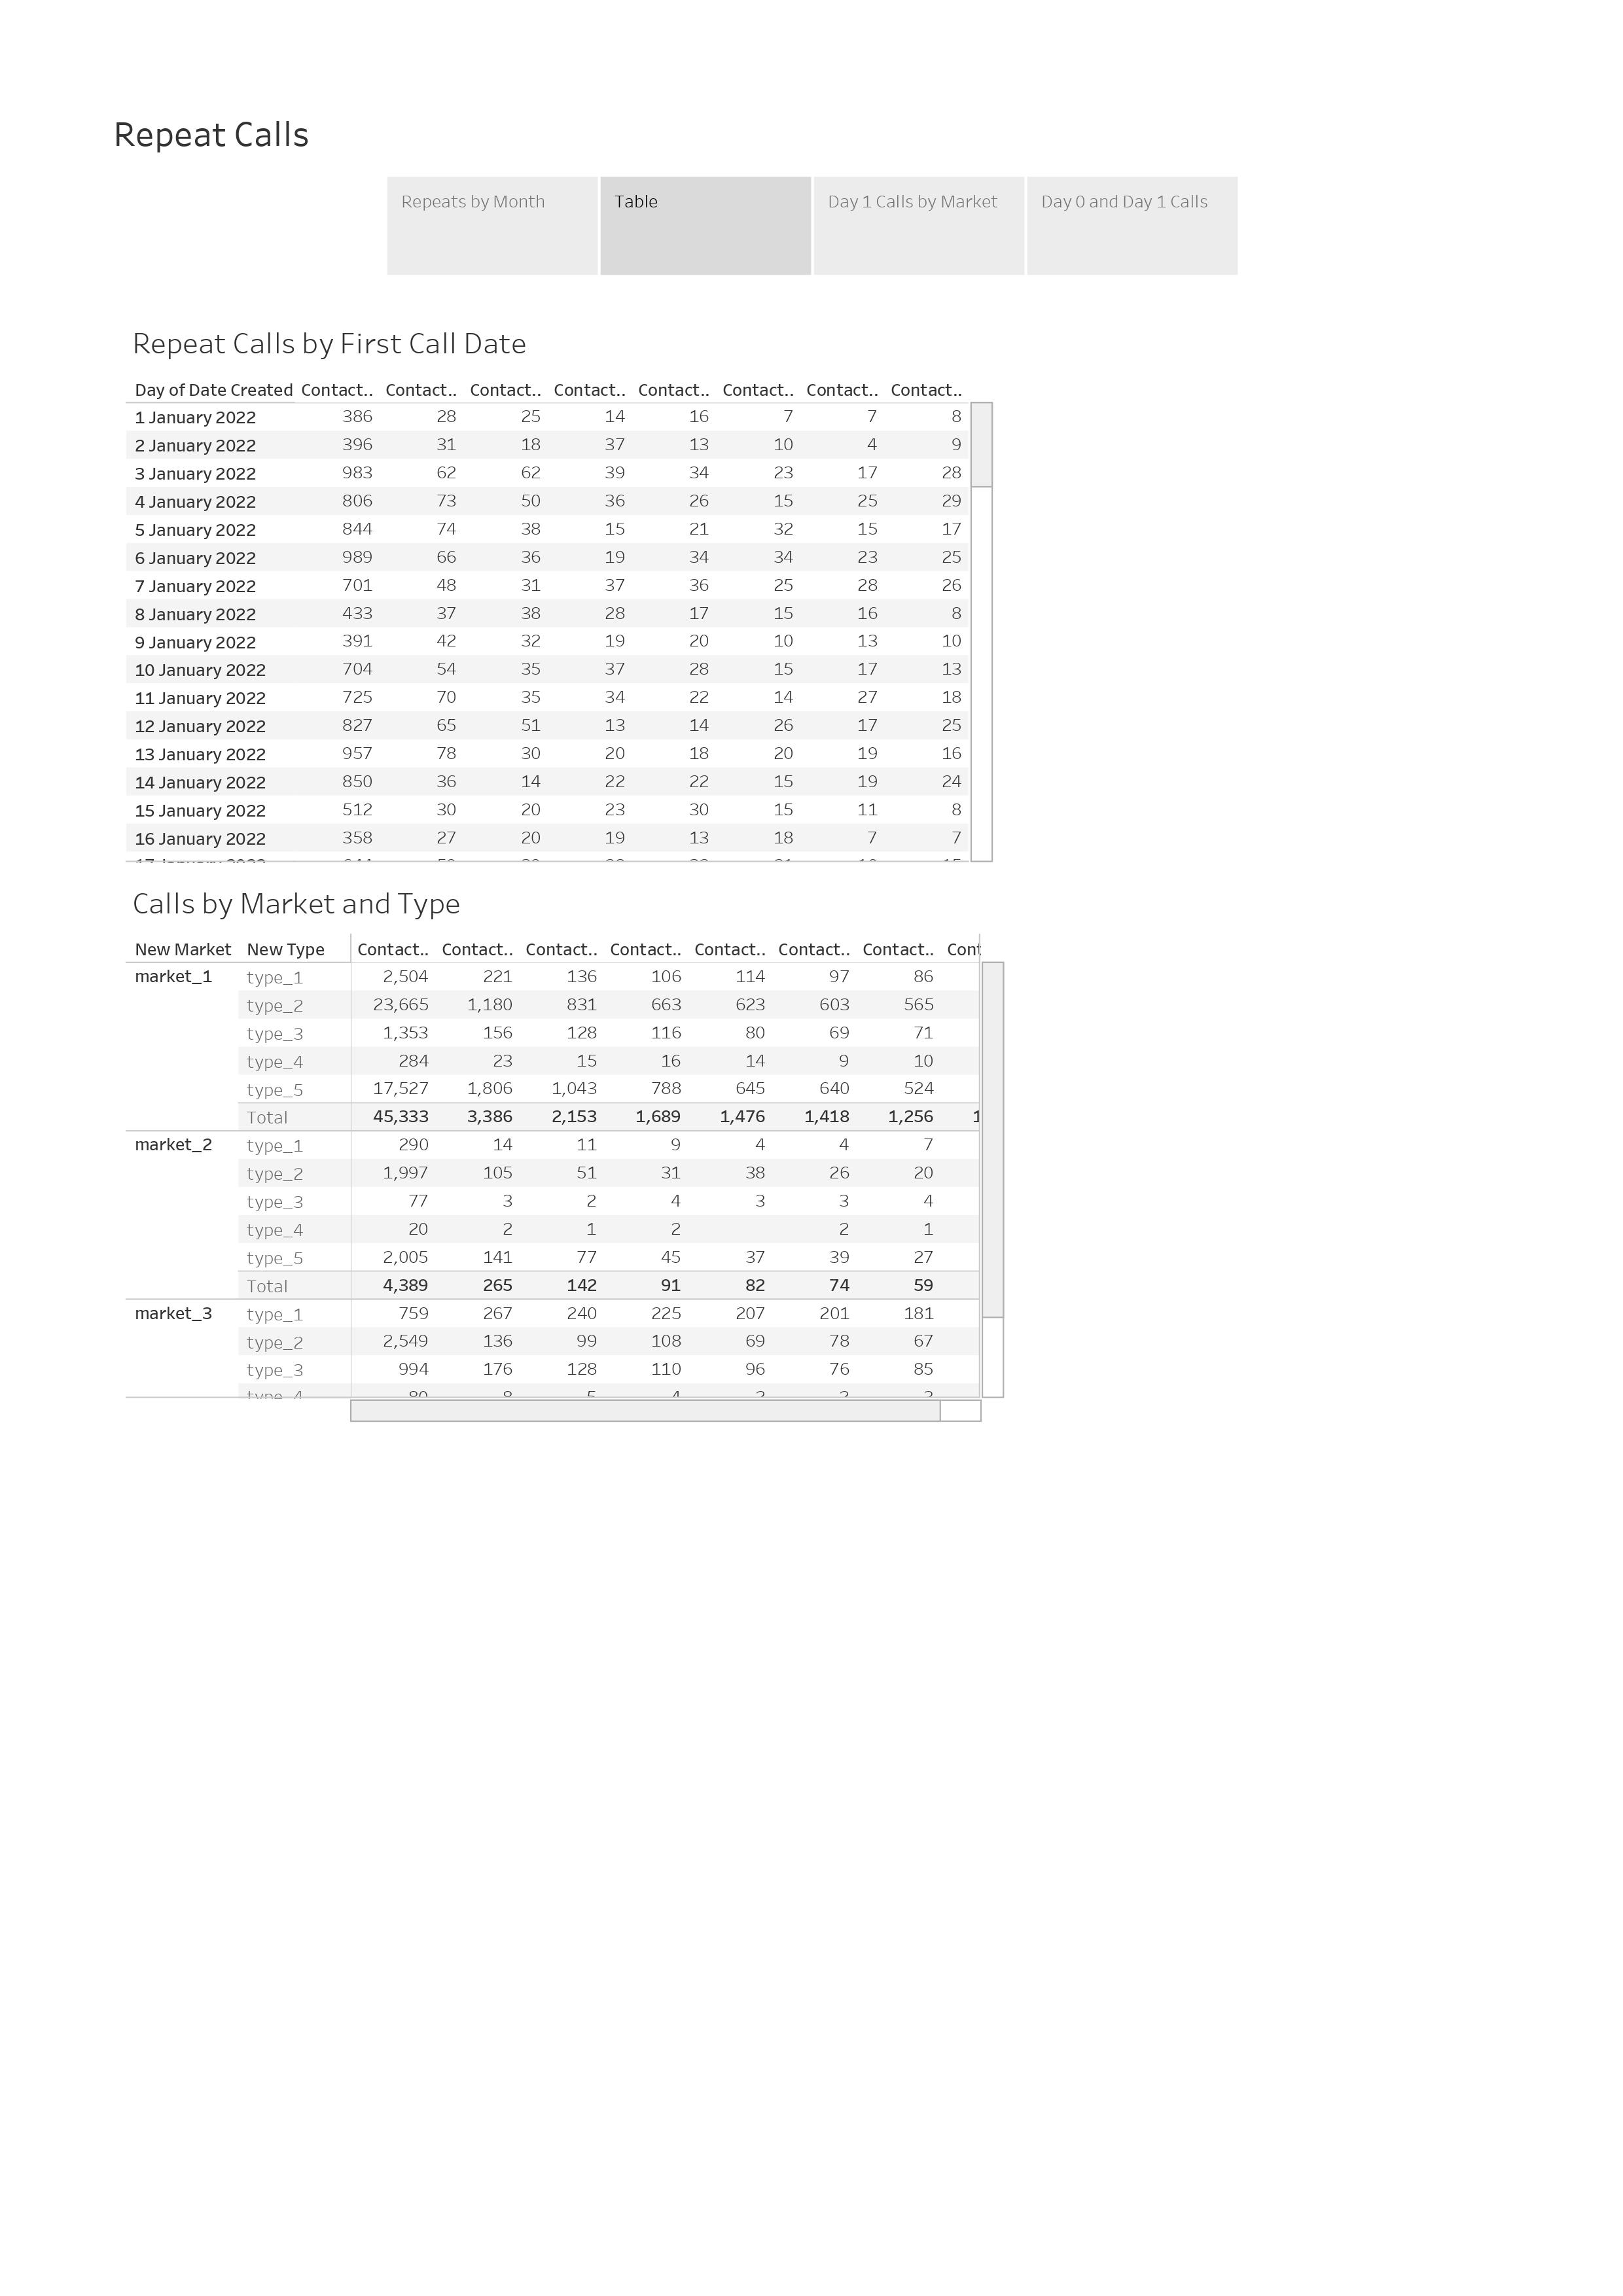

The page's visual inventory and layout, read from the dashboard file:
{"tool":"tableau","page":{"name":"Dashboard 1","canvas":[650,860],"ordinal":0},"visuals":[{"type":"worksheet","title":"Table","mark":"Automatic","rows":["date_created"],"box":[8,8,634,422]},{"type":"worksheet","title":"Table - Market and Type","mark":"Automatic","rows":["new_market","new_type"],"box":[8,430,634,422]}]}

Visuals, with their boxes on the page's 650x860 design canvas (x1, y1, x2, y2). These are canvas units, not pixel positions in the 1623x2296 screenshot, which may show the page scaled, cropped or inside an application window:
"Table" worksheet: 8:8:642:430
"Table - Market and Type" worksheet: 8:430:642:852
